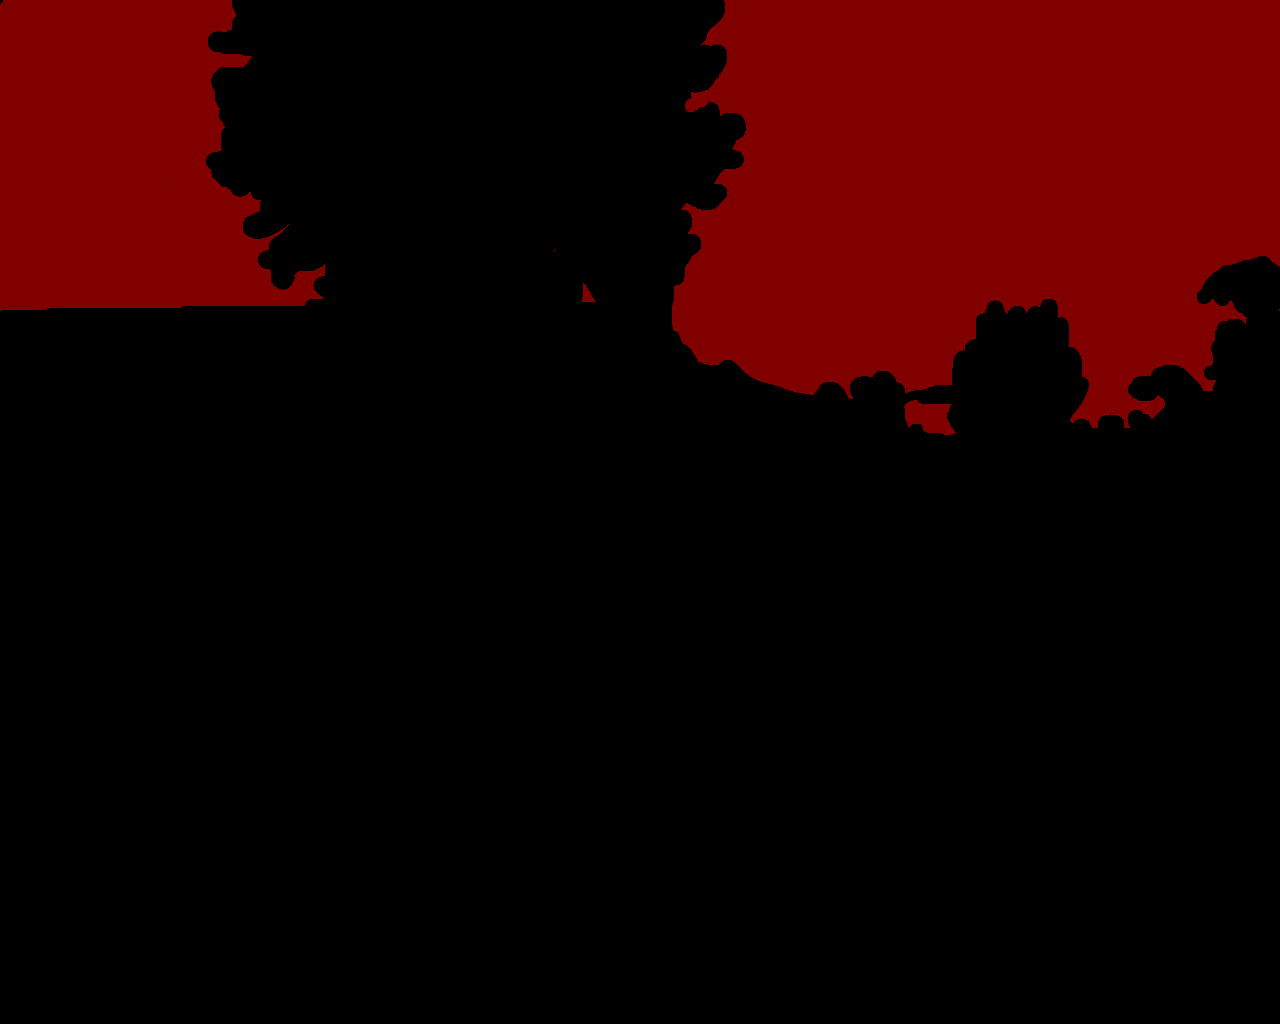Sky: (1, 1, 1279, 435)
